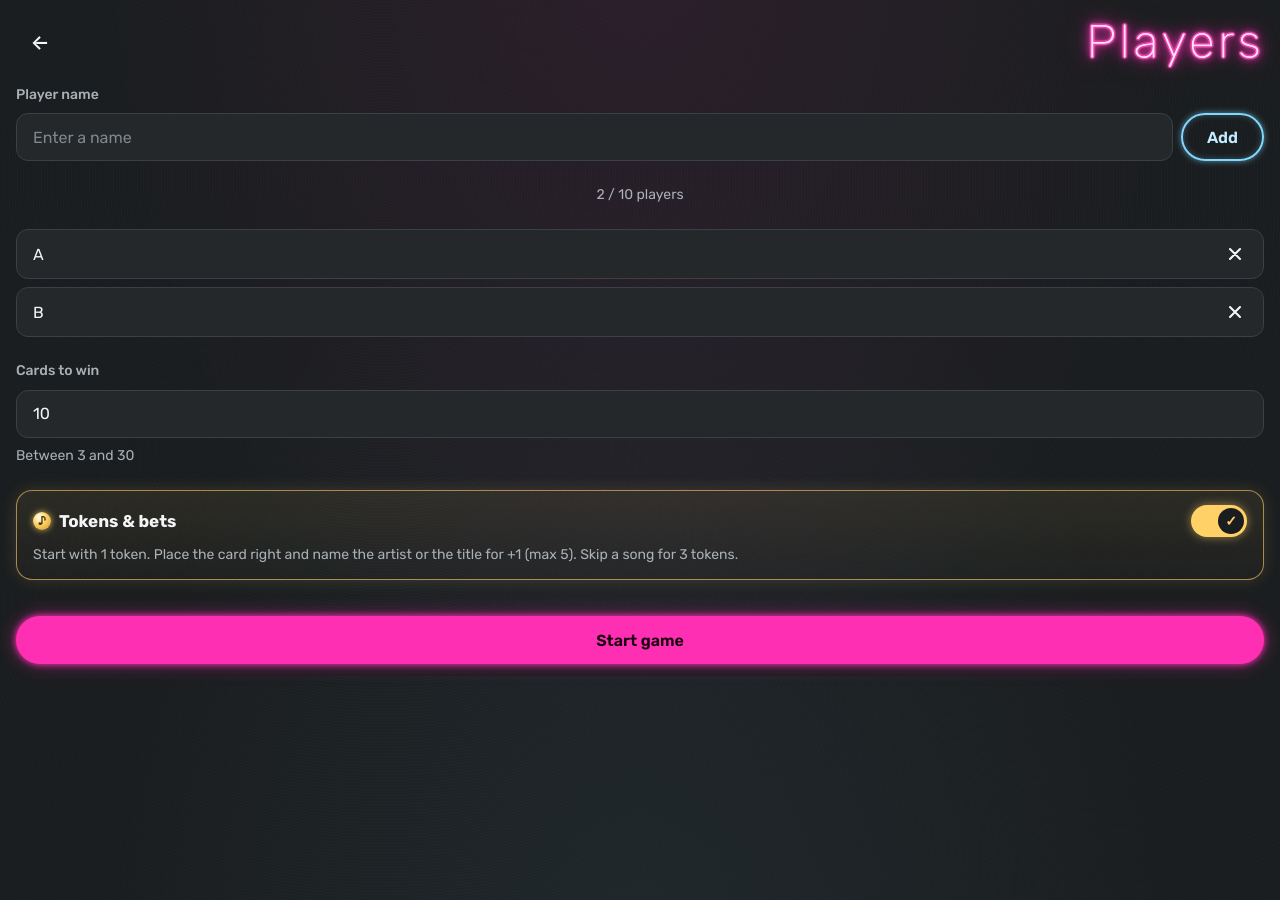
it: SetupScreen › removes players
This screenshot has width=1280, height=900.
Click the 1st button with test id "btn-remove-player" at coordinates (1235, 254), box x1=1211 y1=230 x2=1259 y2=278
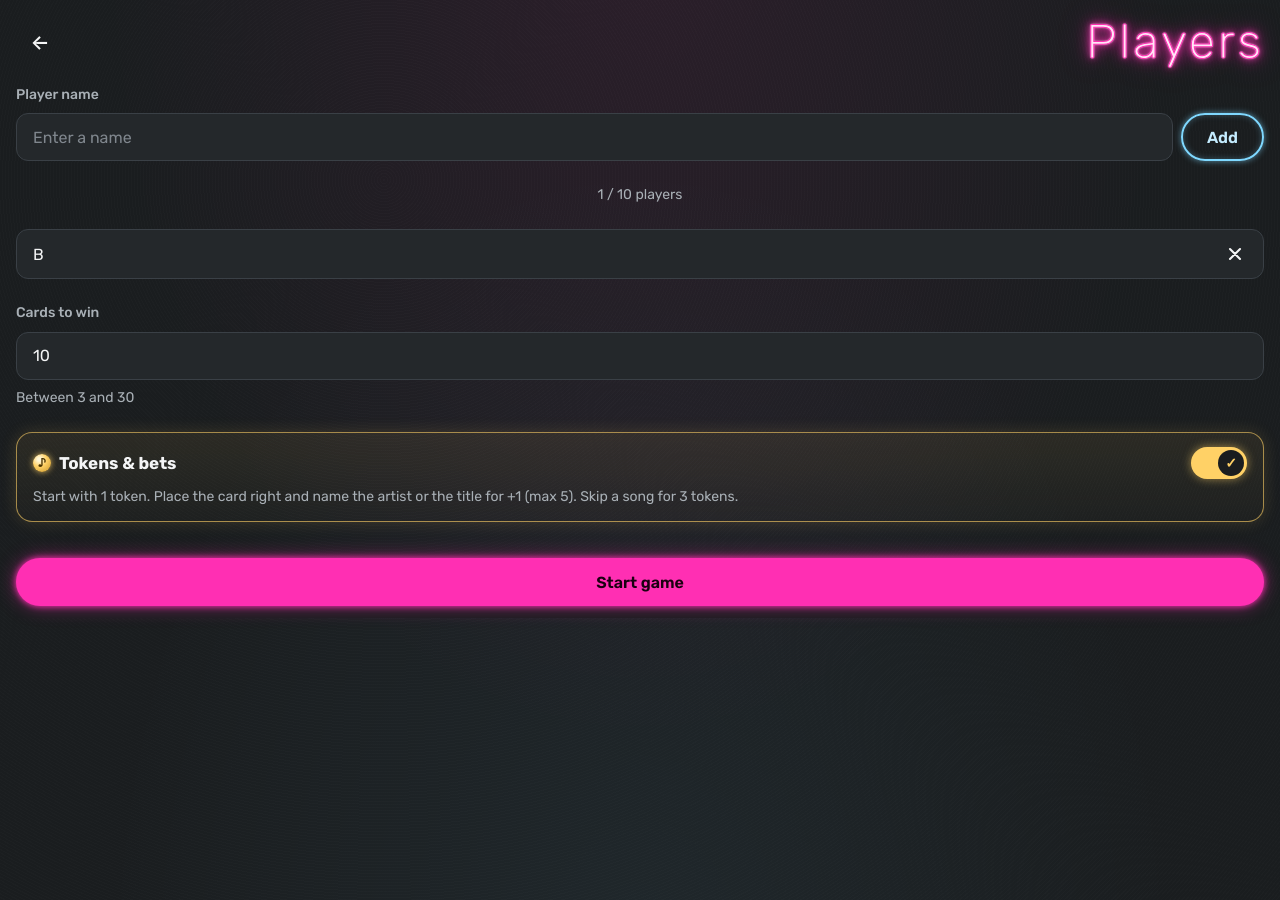
Now the elements with test id "player-item" read "B", in this order, box x1=16 y1=229 x2=1264 y2=279
